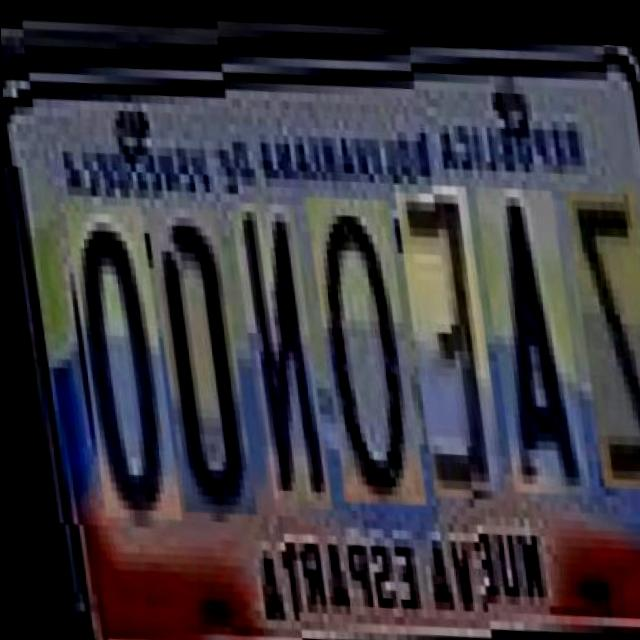0: (138, 183, 242, 492)
a: (470, 177, 579, 487)
e: (390, 174, 492, 483)
n: (224, 186, 318, 495)
o: (57, 179, 166, 498), (300, 180, 412, 490)
z: (561, 178, 640, 479)
